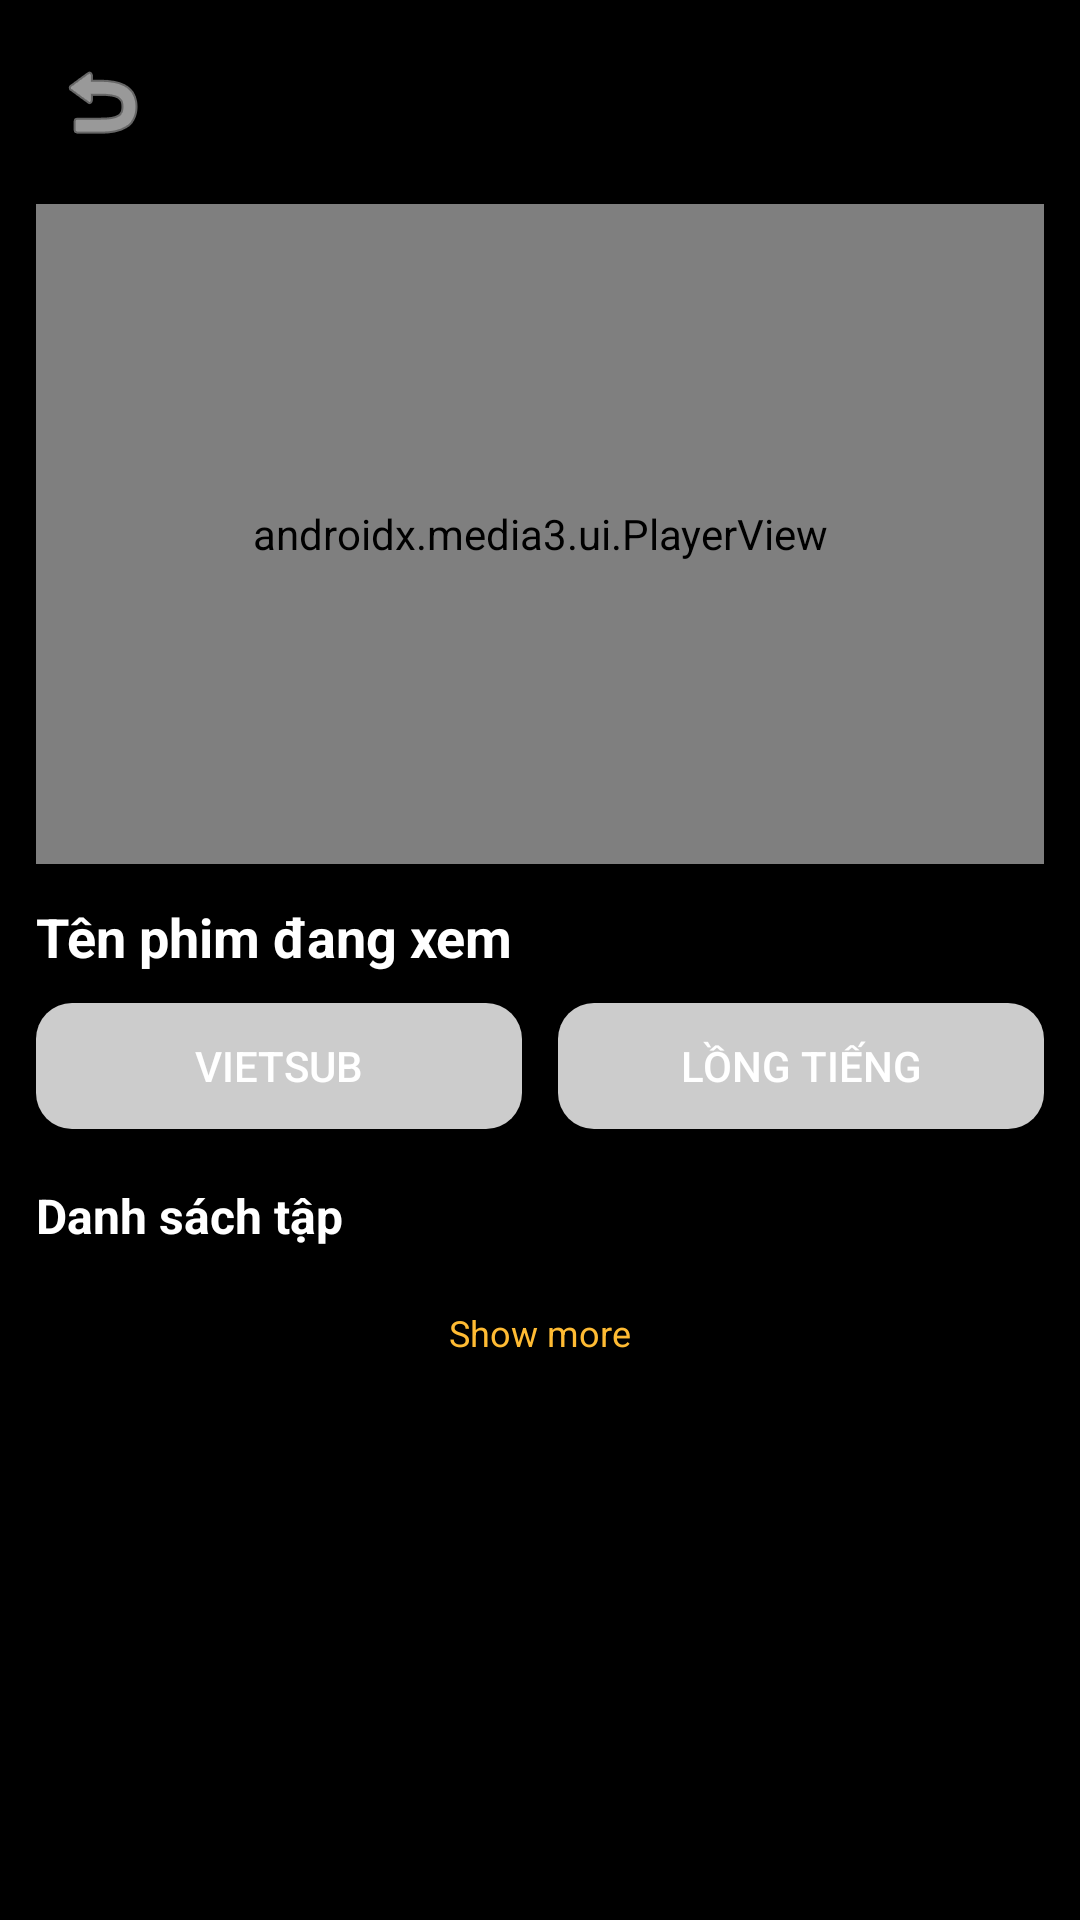

Screen size 1080px×1920px. Icon name, then its box in pixels as (x1, y1, x2, y2):
revert: (69, 71, 138, 134)
